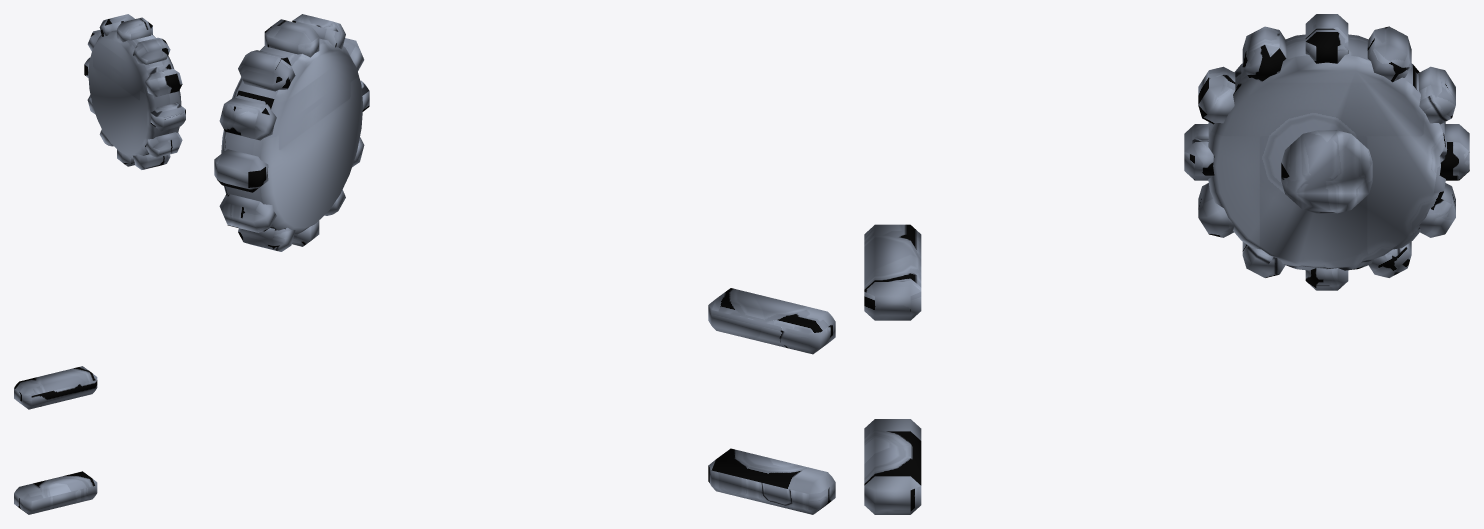
The model's file is Remache_AntebrazoIzq_Acero.fbx.
3 views of the same model, side by side, from view 1: azimuth 30°, elevation 25°; view 2: azimuth 150°, elevation 25°; view 3: azimuth 270°, elevation 25° (orthographic). The views are drawn at different scales.
Visible parts, largest first — view 1: Remache_AntebrazoIzq_Acero; view 2: Remache_AntebrazoIzq_Acero; view 3: Remache_AntebrazoIzq_Acero.
Part boxes in pixels (bbox=[...]): Remache_AntebrazoIzq_Acero: bbox=[14, 14, 185, 514]; Remache_AntebrazoIzq_Acero: bbox=[214, 14, 835, 514]; Remache_AntebrazoIzq_Acero: bbox=[864, 14, 1469, 514].
Bounding box in the file's own units: 1.39 × 1.77 × 1.52.
